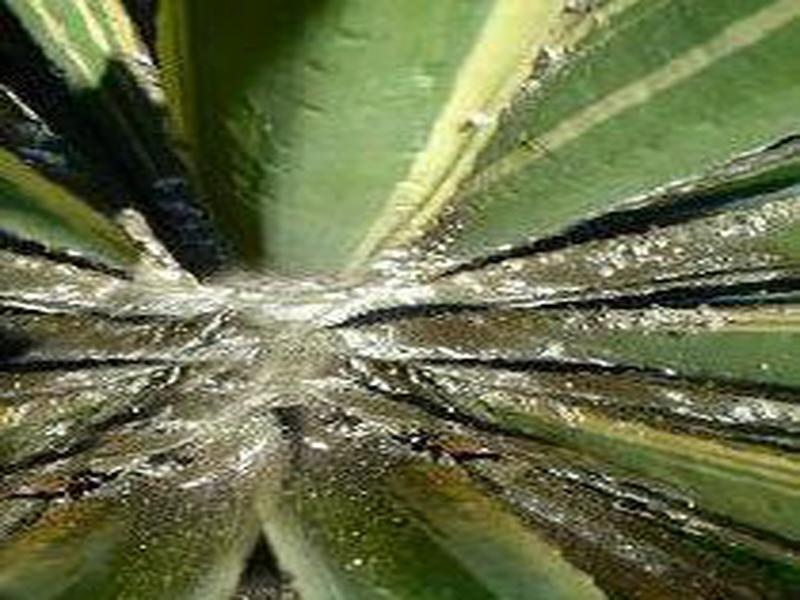Mealy_bug: (112, 287, 572, 505)
